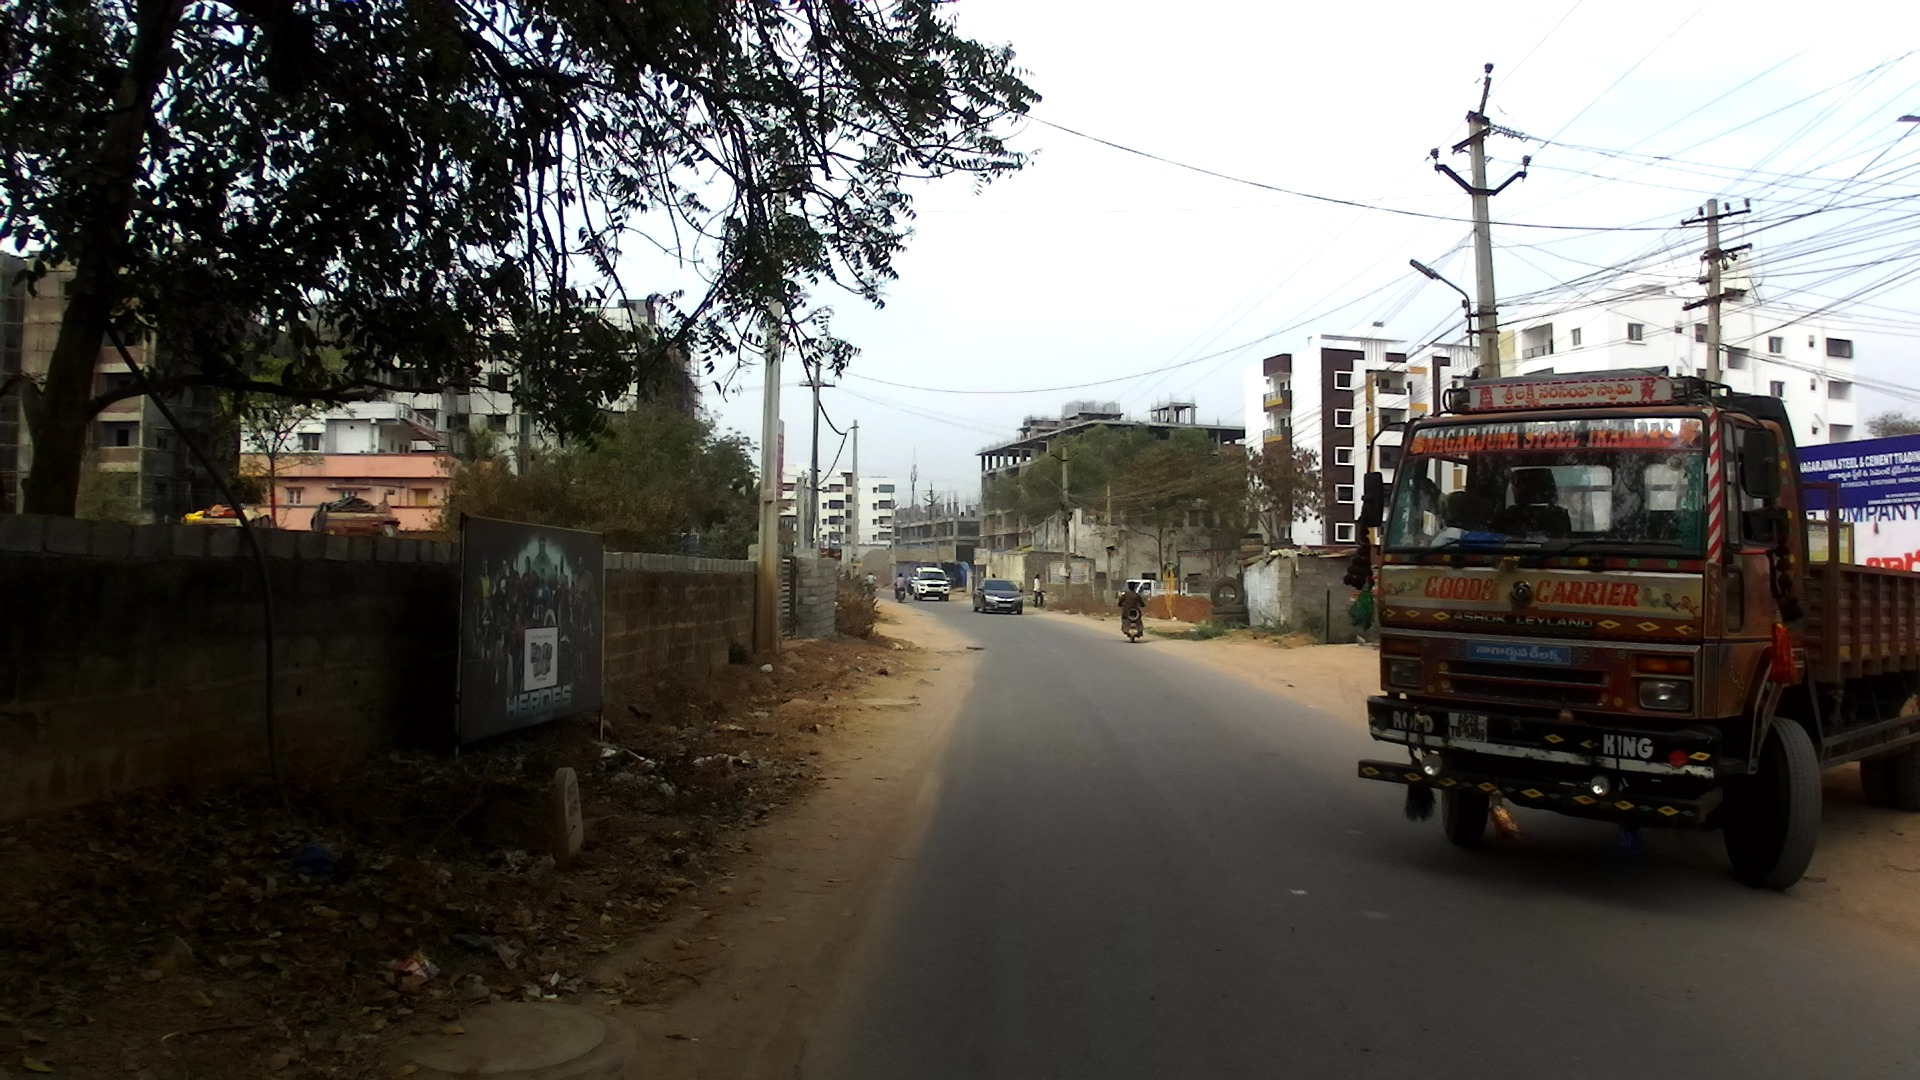car: (973, 579, 1024, 616), (911, 567, 951, 601)
motorcycle: (1119, 602, 1144, 643), (894, 583, 906, 602), (906, 583, 915, 597), (866, 583, 877, 594)
person: (1033, 574, 1044, 608)
rider: (1118, 582, 1146, 621), (893, 573, 906, 591), (866, 573, 877, 585), (906, 574, 915, 585)
truck: (1345, 368, 1919, 892), (1118, 579, 1190, 603)
